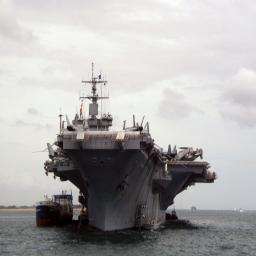Portanaves: (46, 63, 218, 242)
